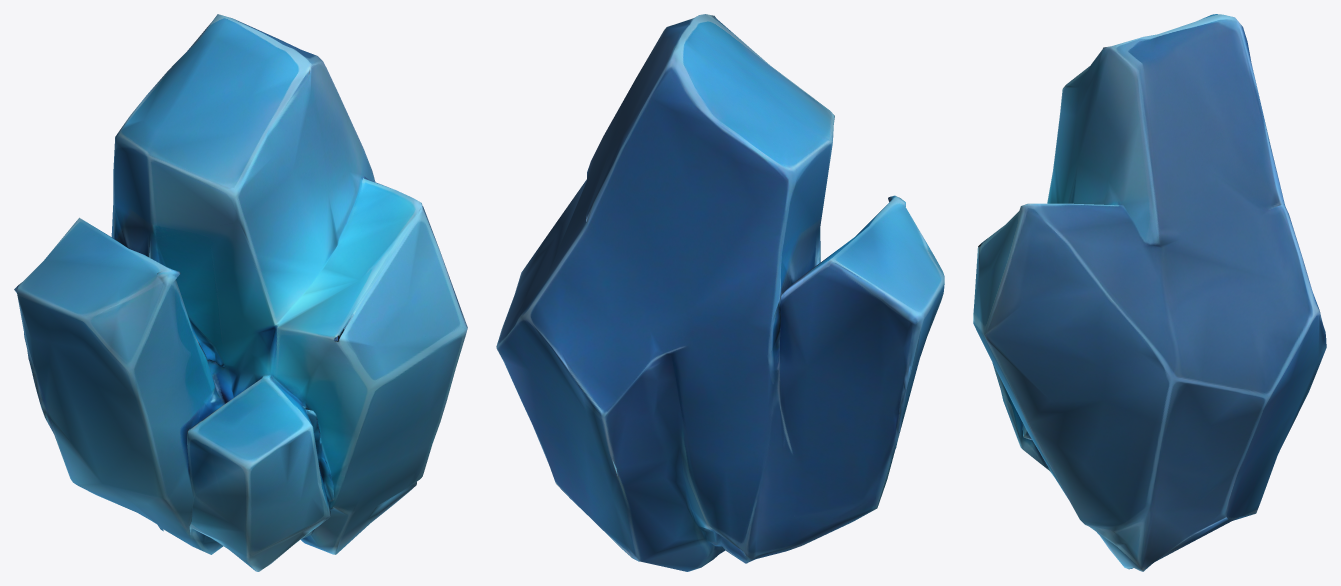
The model's file is resource_credit_carry.glb.
The picture shows the model from 3 angles, left to right: view 1: azimuth 30°, elevation 25°; view 2: azimuth 150°, elevation 25°; view 3: azimuth 270°, elevation 25°; orthographic projection. The views are drawn at different scales.
Size of the model in its own units: 1.6 by 2 by 1.23.
Materials: 1 (1 with a texture image).
